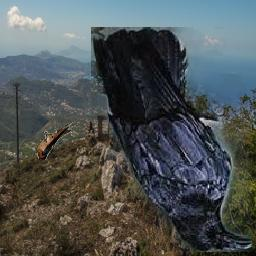Crow: (92, 28, 253, 253)
Swallow: (37, 122, 75, 161)
